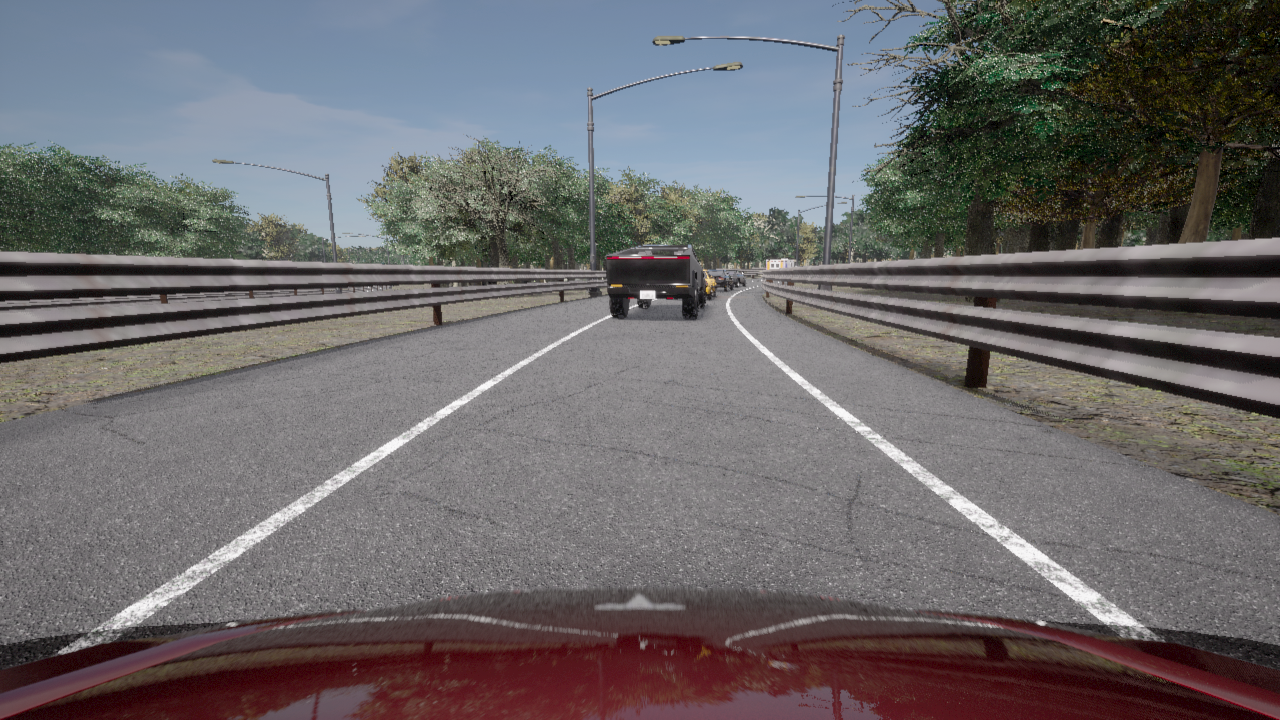cyclist: (0, 588, 1279, 719), (606, 245, 706, 318), (708, 269, 733, 291), (703, 269, 716, 299), (726, 270, 746, 286), (766, 259, 793, 269), (797, 265, 804, 266)
